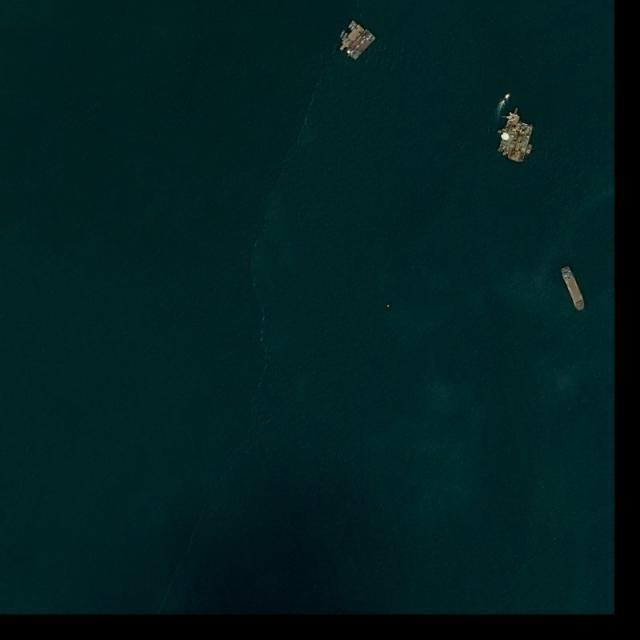ship: (560, 266, 588, 313), (346, 28, 378, 61), (338, 24, 365, 54), (347, 20, 357, 30), (526, 144, 533, 156), (350, 23, 358, 31), (342, 33, 349, 41), (340, 30, 346, 39), (514, 107, 519, 115), (505, 94, 510, 100)
